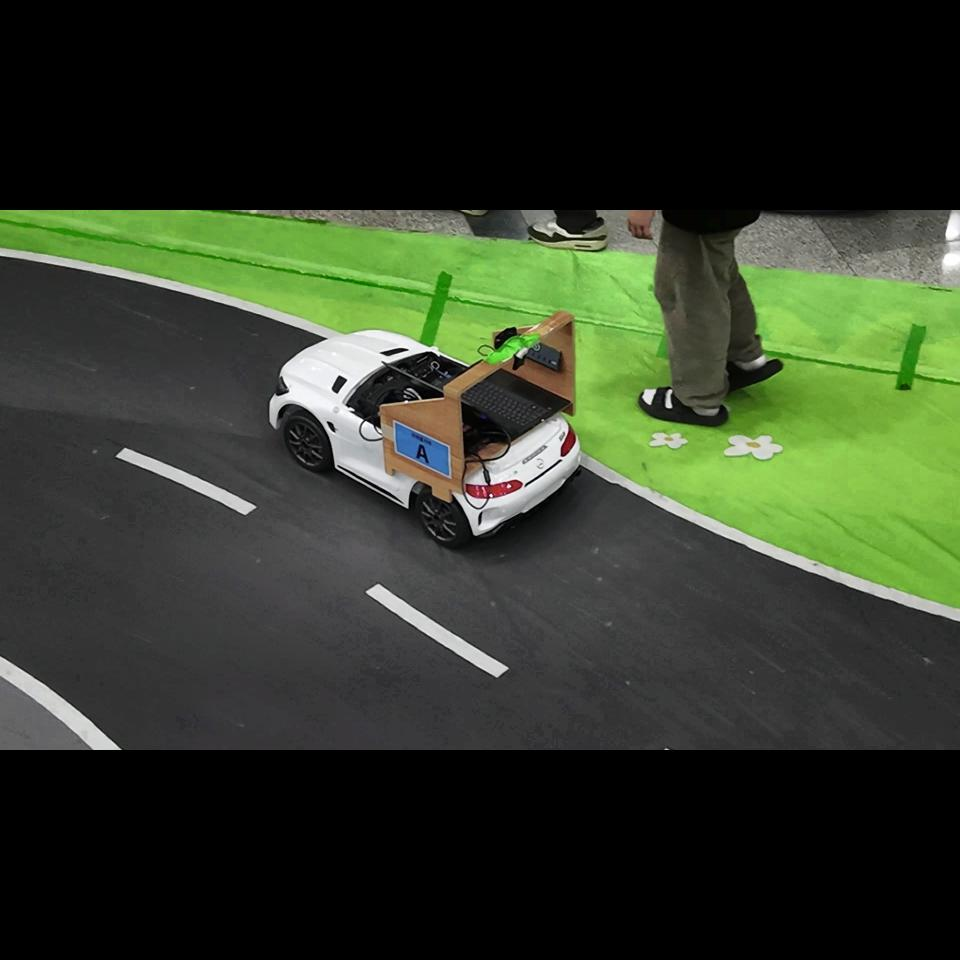broken_line: (365, 583, 510, 678), (115, 447, 257, 515)
